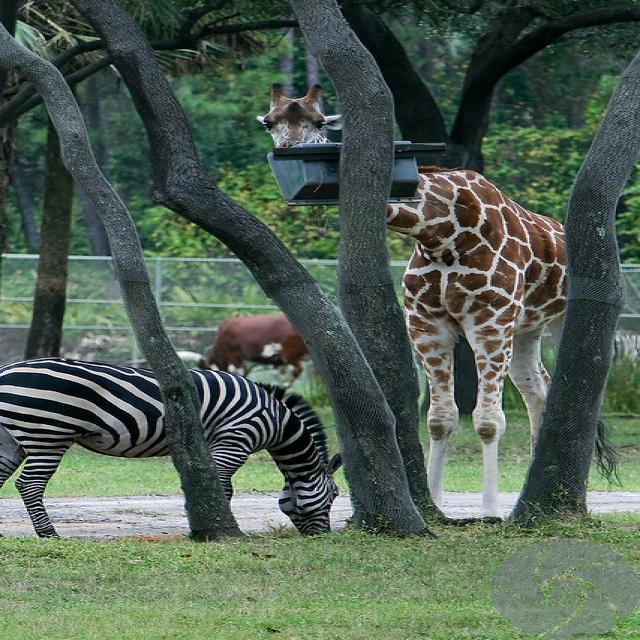cow: (195, 312, 309, 384)
